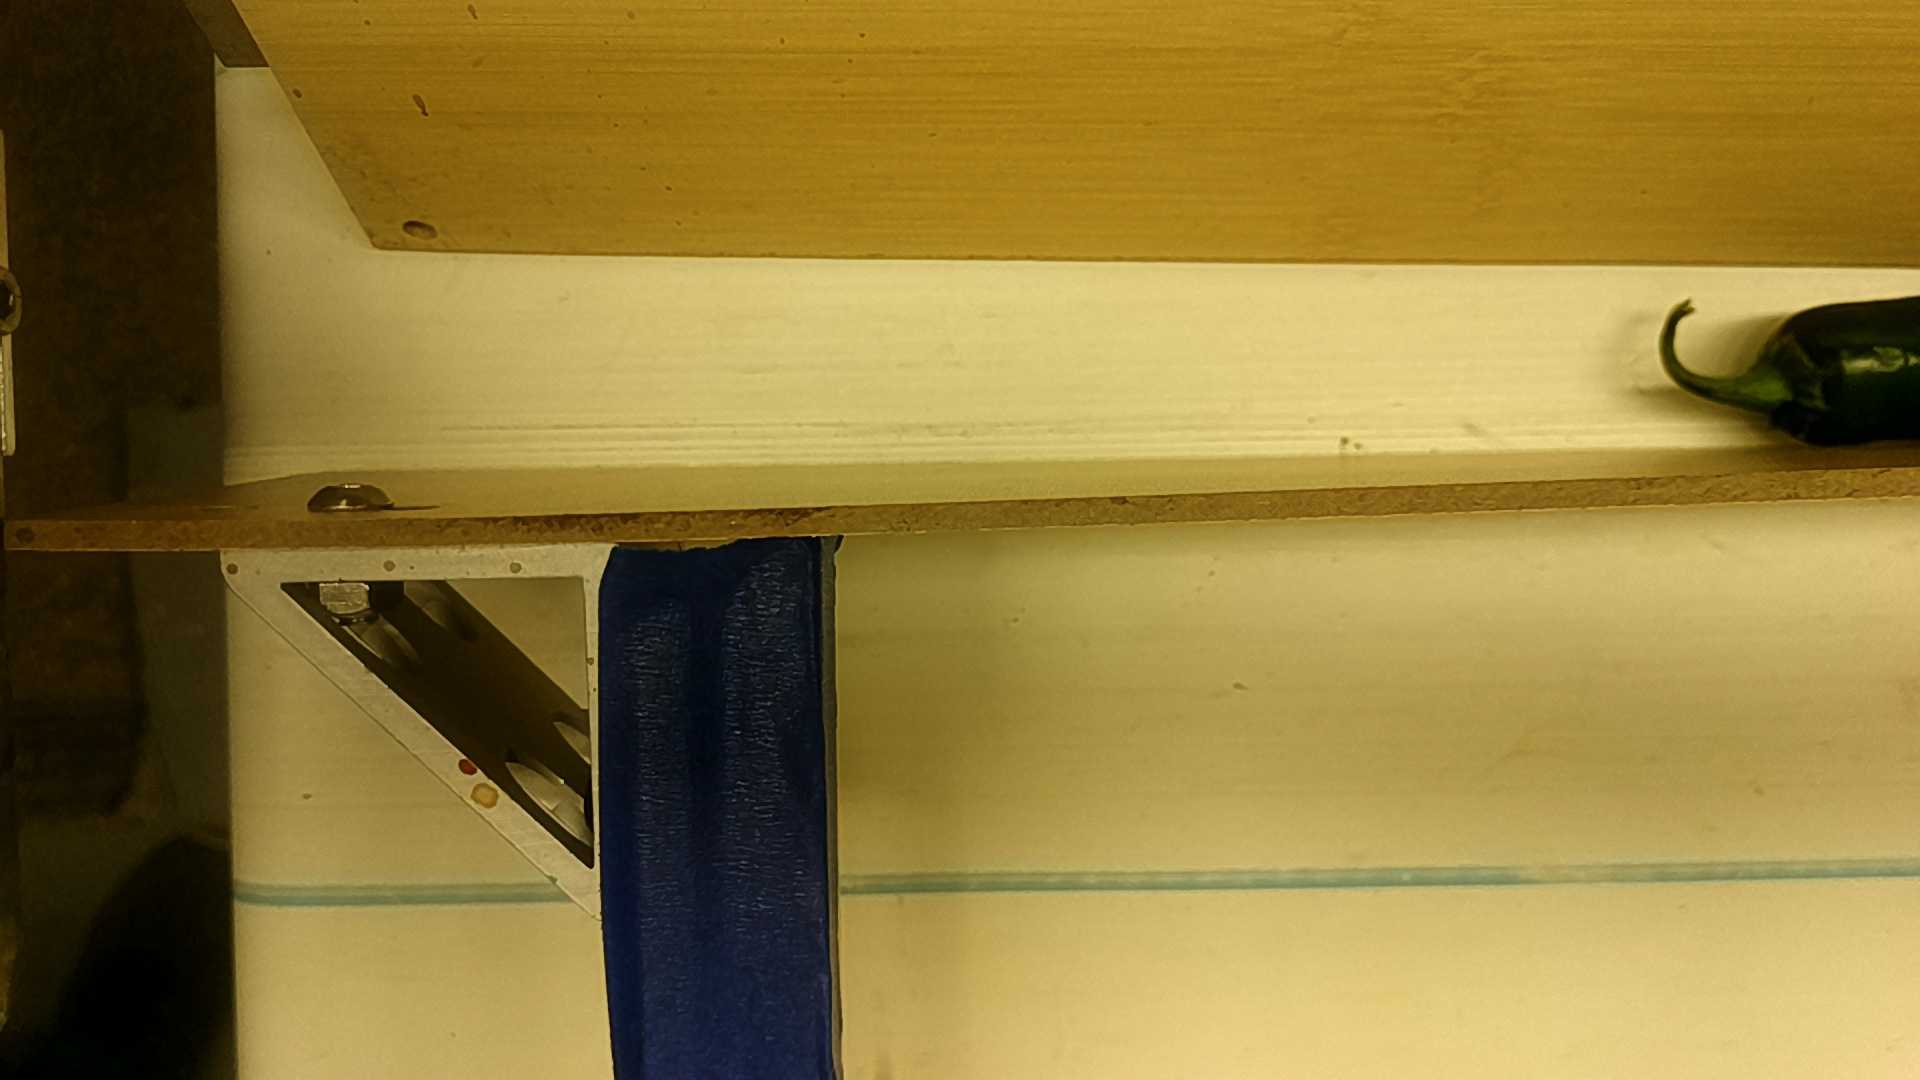Cut Point: (1750, 303, 1841, 455)
